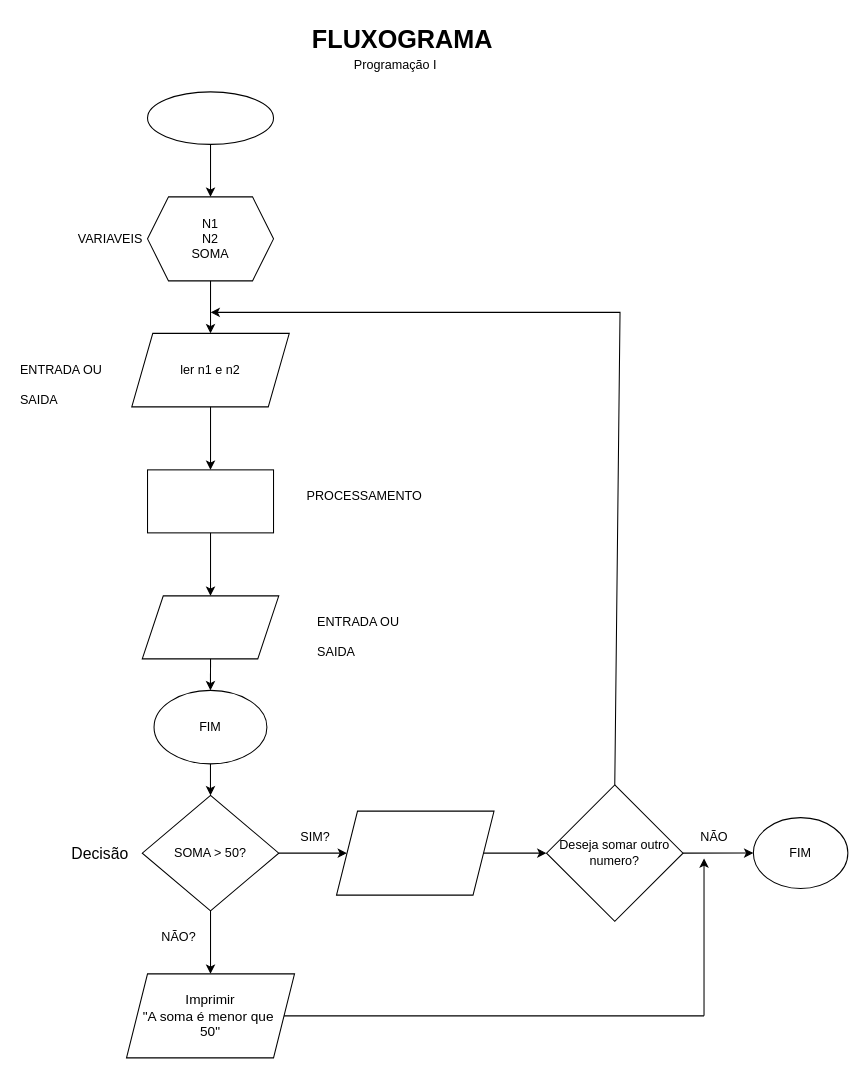
Image size: 866x1076. Some labels were removed from this diagram. Each missing label, with the box of its shape:
Imprimir "a soma é maior que 50": (335, 810, 494, 895)
Imprimir soma: (141, 595, 279, 659)
INICIO: (146, 91, 274, 144)
Soma = n1 + n2: (146, 469, 274, 533)
